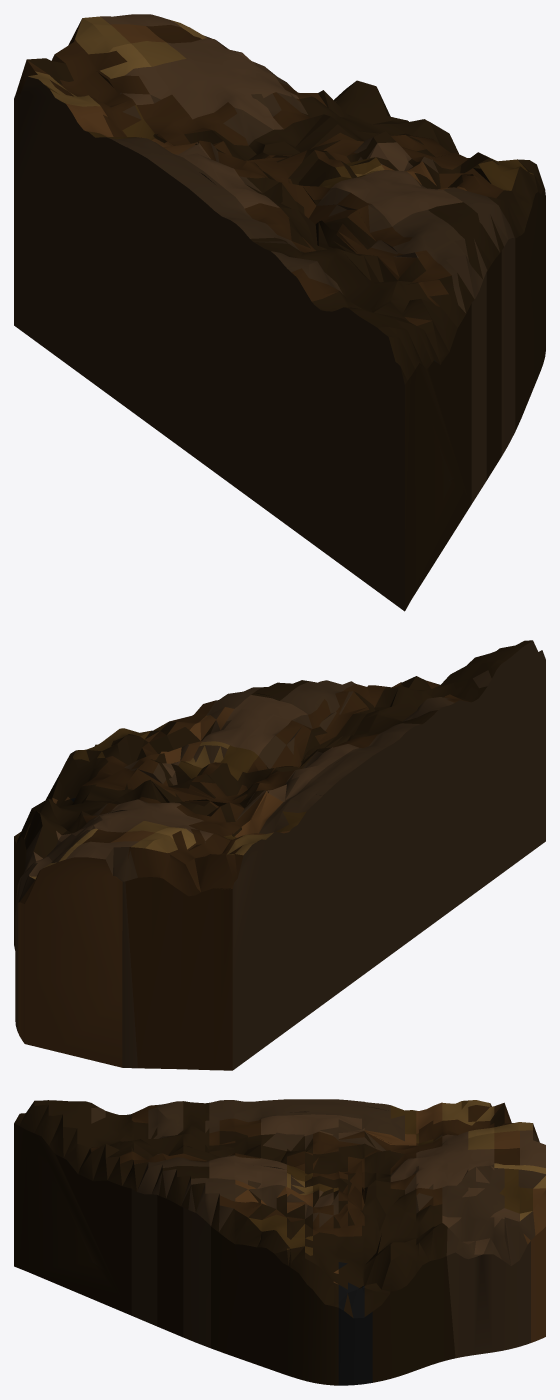
File: tusk_boss_208.glb
The picture shows the model from 3 angles, top to bottom: view 1: azimuth 30°, elevation 25°; view 2: azimuth 150°, elevation 25°; view 3: azimuth 270°, elevation 25°; orthographic projection. The views are drawn at different scales.
Parts seen in each view (by area): view 1: tusk_boss_208_plates; view 2: tusk_boss_208_plates; view 3: tusk_boss_208_plates.
Boxes of the visible parts, x1,y1,x2,y2 form: tusk_boss_208_plates: (14, 14, 545, 611); tusk_boss_208_plates: (14, 640, 545, 1070); tusk_boss_208_plates: (14, 1099, 545, 1385).
Bounding box in the file's own units: 10.89 × 7.32 × 20.54.
